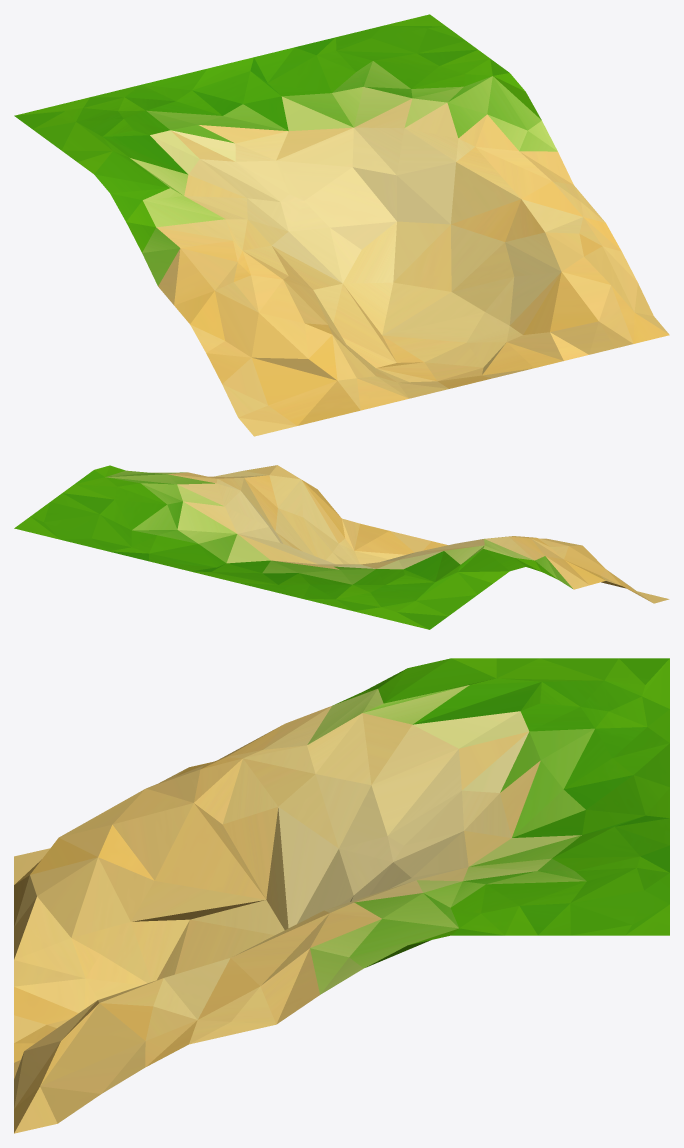
Rendered from GL-Terrain-part-03-LOD3.fbx.
3 renders of one model, top to bottom at view 1: azimuth 30°, elevation 25°; view 2: azimuth 150°, elevation 25°; view 3: azimuth 270°, elevation 25°, orthographic. The views are drawn at different scales.
Visible parts, largest first — view 1: GL_Terrain_part_03; view 2: GL_Terrain_part_03; view 3: GL_Terrain_part_03.
Boxes of the visible parts, <box> form: GL_Terrain_part_03: <box>14,14,669,436</box>; GL_Terrain_part_03: <box>14,465,669,629</box>; GL_Terrain_part_03: <box>14,658,669,1133</box>.
Bounding box in the file's own units: 18 × 6.76 × 18.
